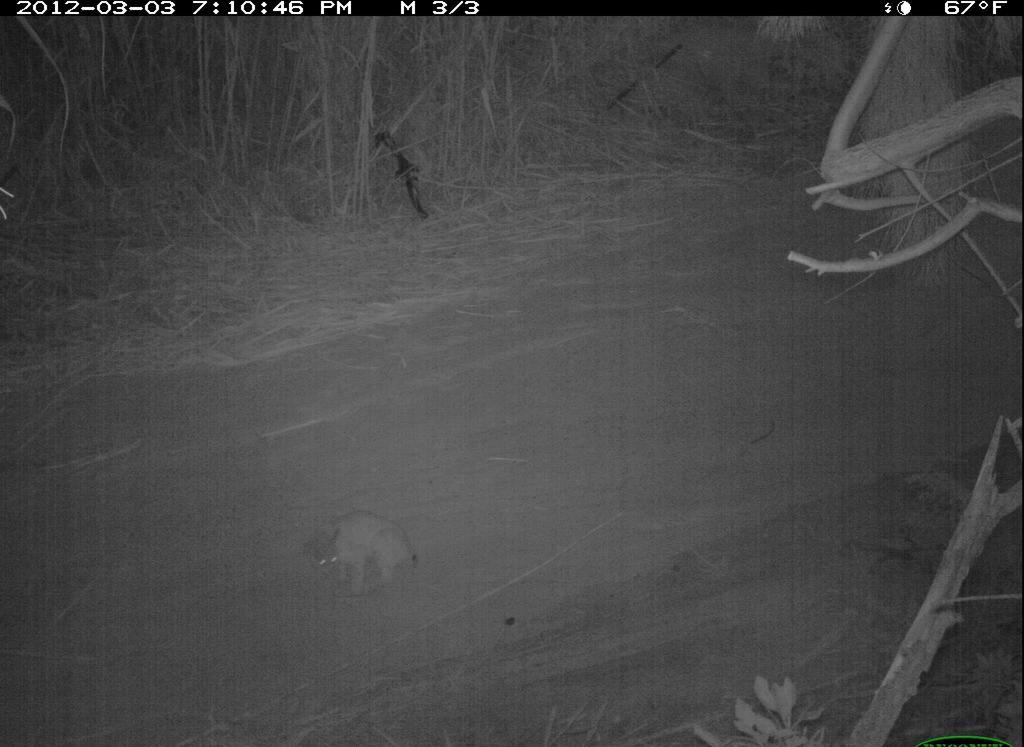bobcat: (292, 506, 420, 592)
